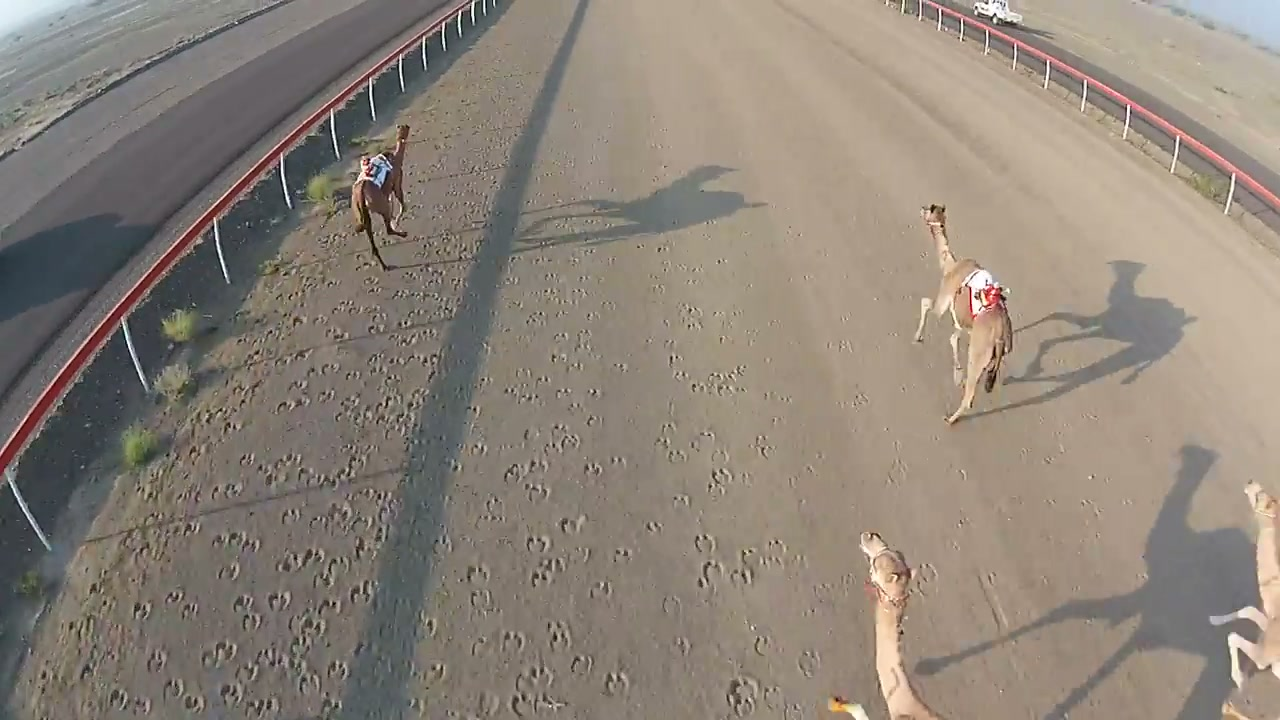animal_footprint: (86, 0, 807, 719), (725, 676, 761, 717), (548, 621, 572, 651), (604, 670, 630, 696)
